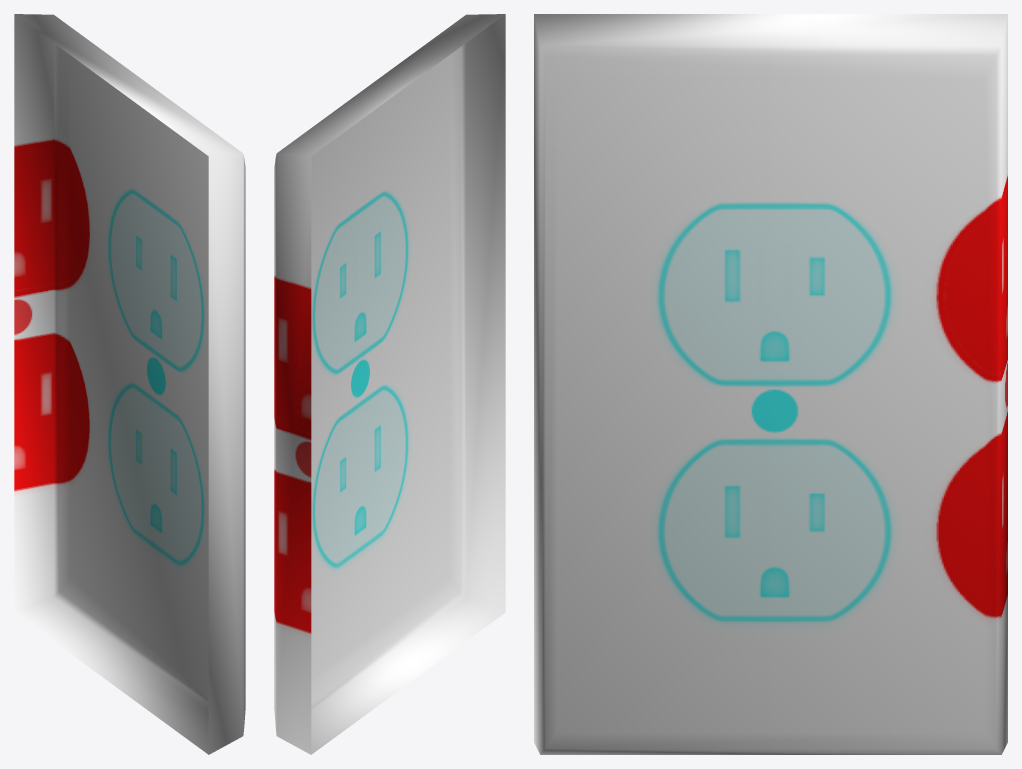
File: SwitchType2.fbx
3 renders of one model, left to right at view 1: azimuth 30°, elevation 25°; view 2: azimuth 150°, elevation 25°; view 3: azimuth 270°, elevation 25°, orthographic. The views are drawn at different scales.
Visible parts, largest first — view 1: polySurface54; view 2: polySurface54; view 3: polySurface54.
Part boxes in pixels (<box>): polySurface54: <box>14,14,245,754</box>; polySurface54: <box>274,14,505,754</box>; polySurface54: <box>534,14,1007,754</box>.
Size of the model in its own units: 5.82 by 71.63 by 42.23.
